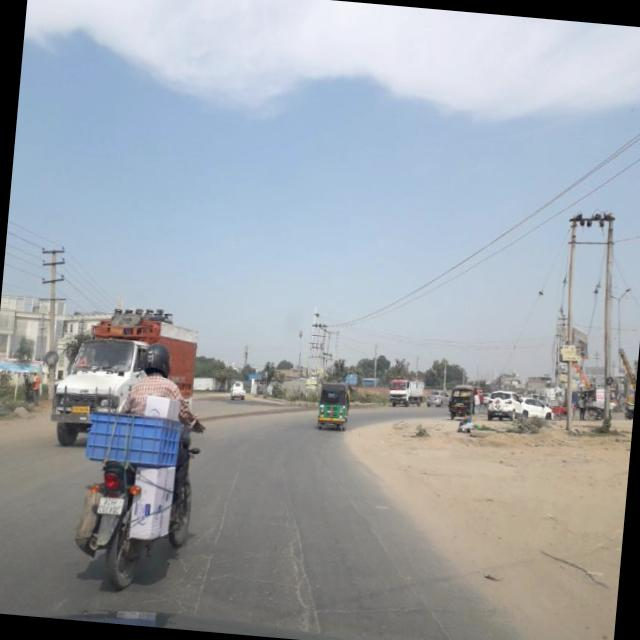pothole: (270, 474, 348, 640), (186, 472, 242, 612), (321, 468, 402, 557), (385, 559, 466, 640)
